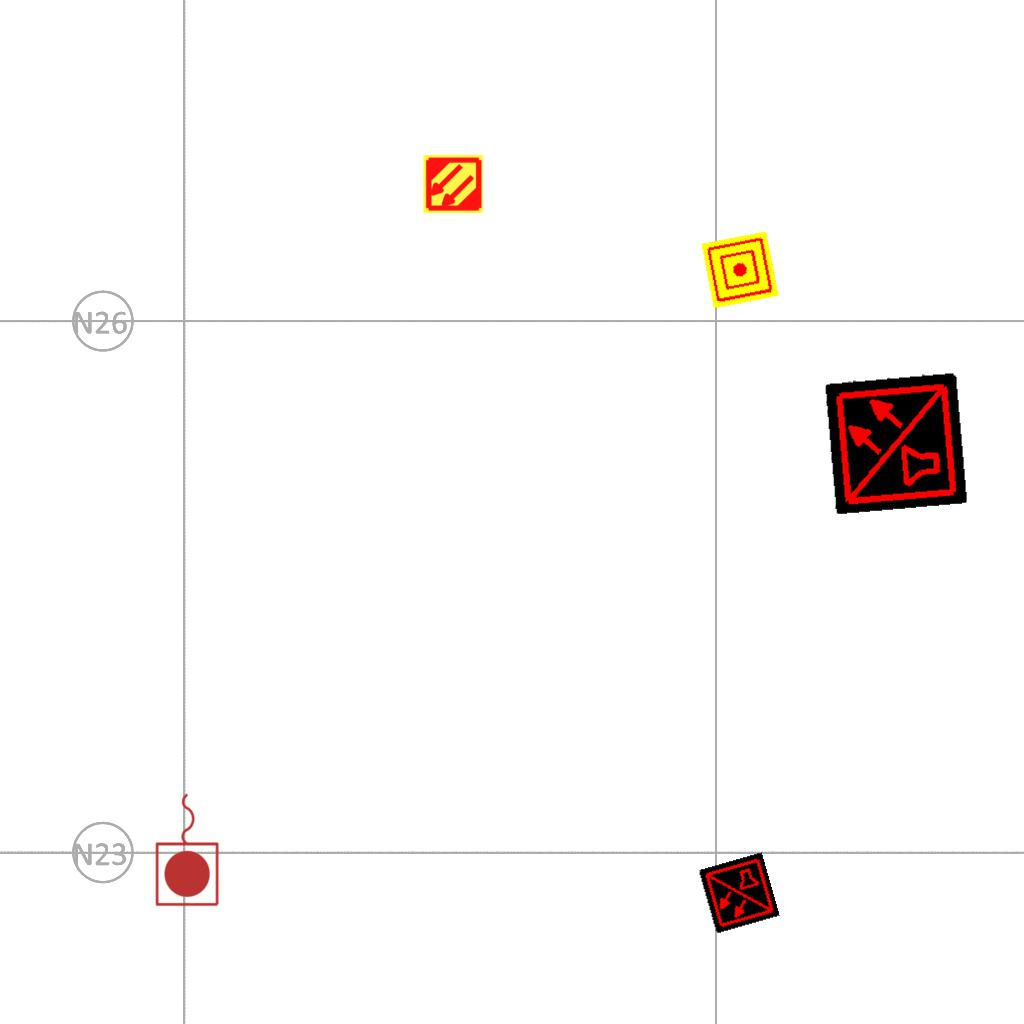ASR_Ansaugrauchmelder: (422, 153, 484, 215)
NAM-Nichtautomatischer_Melder: (701, 231, 779, 309)
OKW_Multisensormelder_(Kombination_optischer_Rauch-Kahlenmonoxid_Waerme-Melder): (824, 371, 968, 515), (698, 852, 780, 934)
Zugtaster: (152, 788, 224, 910)
